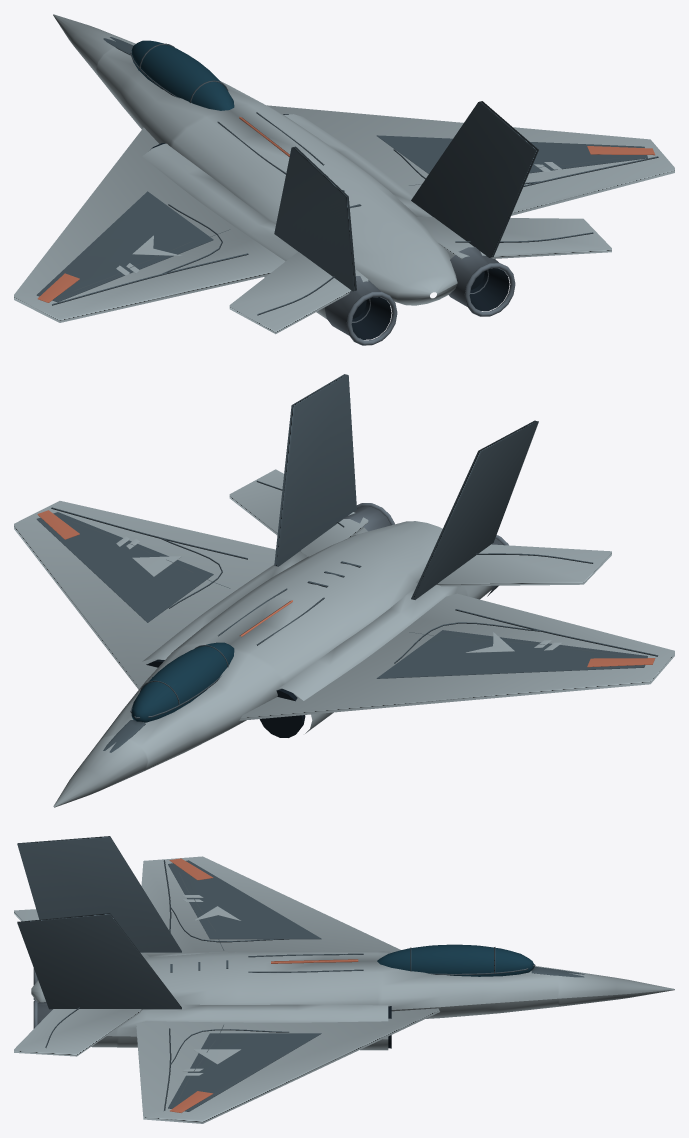
Rendered from player-vector-mobile-v4.glb.
3 views of the same model, one above another, from view 1: azimuth 30°, elevation 25°; view 2: azimuth 150°, elevation 25°; view 3: azimuth 270°, elevation 25° (orthographic). The views are drawn at different scales.
Visible parts, largest first — view 1: hull, trim, metal, canopy, dark, accent; view 2: hull, trim, canopy, accent, dark, metal; view 3: hull, trim, canopy, accent.
Boxes of the visible parts, x1,y1,x2,y2 form: hull: (14, 14, 674, 334); trim: (36, 37, 658, 315); metal: (325, 247, 515, 345); canopy: (131, 40, 234, 110); dark: (150, 114, 509, 339); accent: (37, 116, 655, 302); hull: (14, 469, 674, 807); trim: (36, 374, 658, 752); canopy: (131, 642, 234, 722); accent: (37, 510, 655, 667); dark: (146, 659, 305, 737); metal: (343, 503, 508, 596); hull: (14, 856, 674, 1123); trim: (17, 836, 584, 1111); canopy: (377, 944, 534, 976); accent: (169, 858, 358, 1112).
Bounding box in the file's own units: 17.8 × 4.66 × 18.9.
